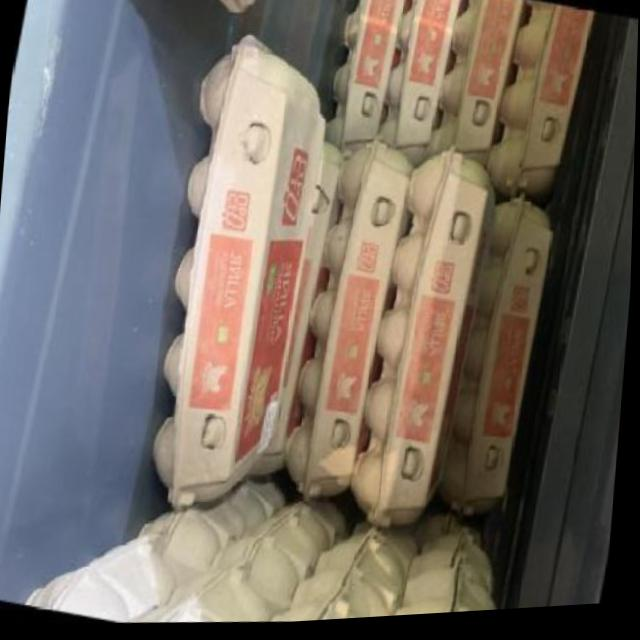Egg: (131, 21, 347, 538), (345, 146, 506, 551), (277, 132, 417, 518), (436, 188, 564, 541)
